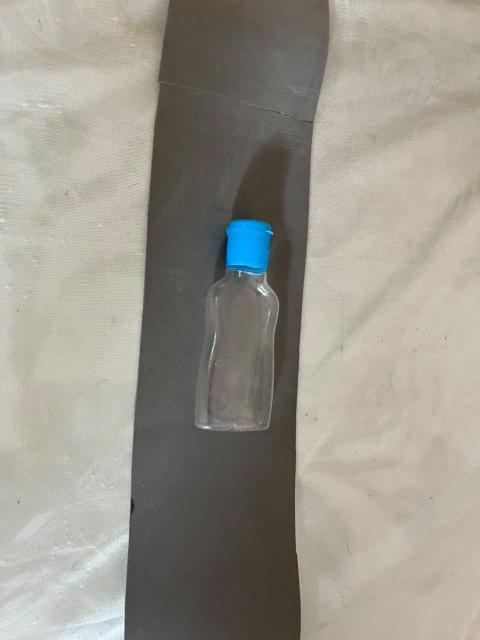PET: (168, 203, 307, 463)
